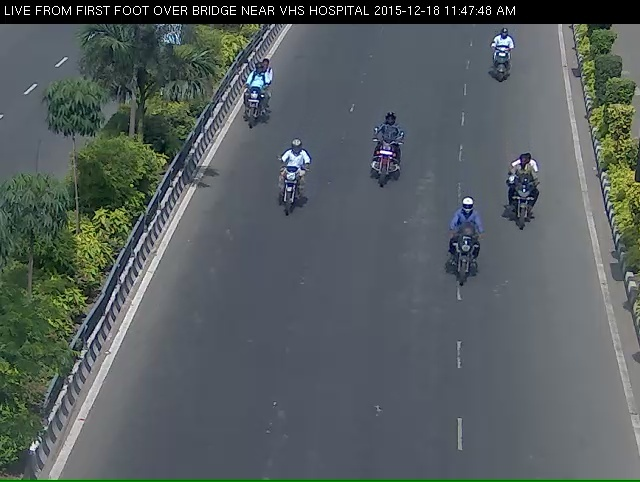Person: (444, 219, 487, 309), (360, 128, 401, 212), (267, 158, 302, 241), (484, 35, 526, 99), (512, 169, 542, 246), (239, 65, 267, 143)
